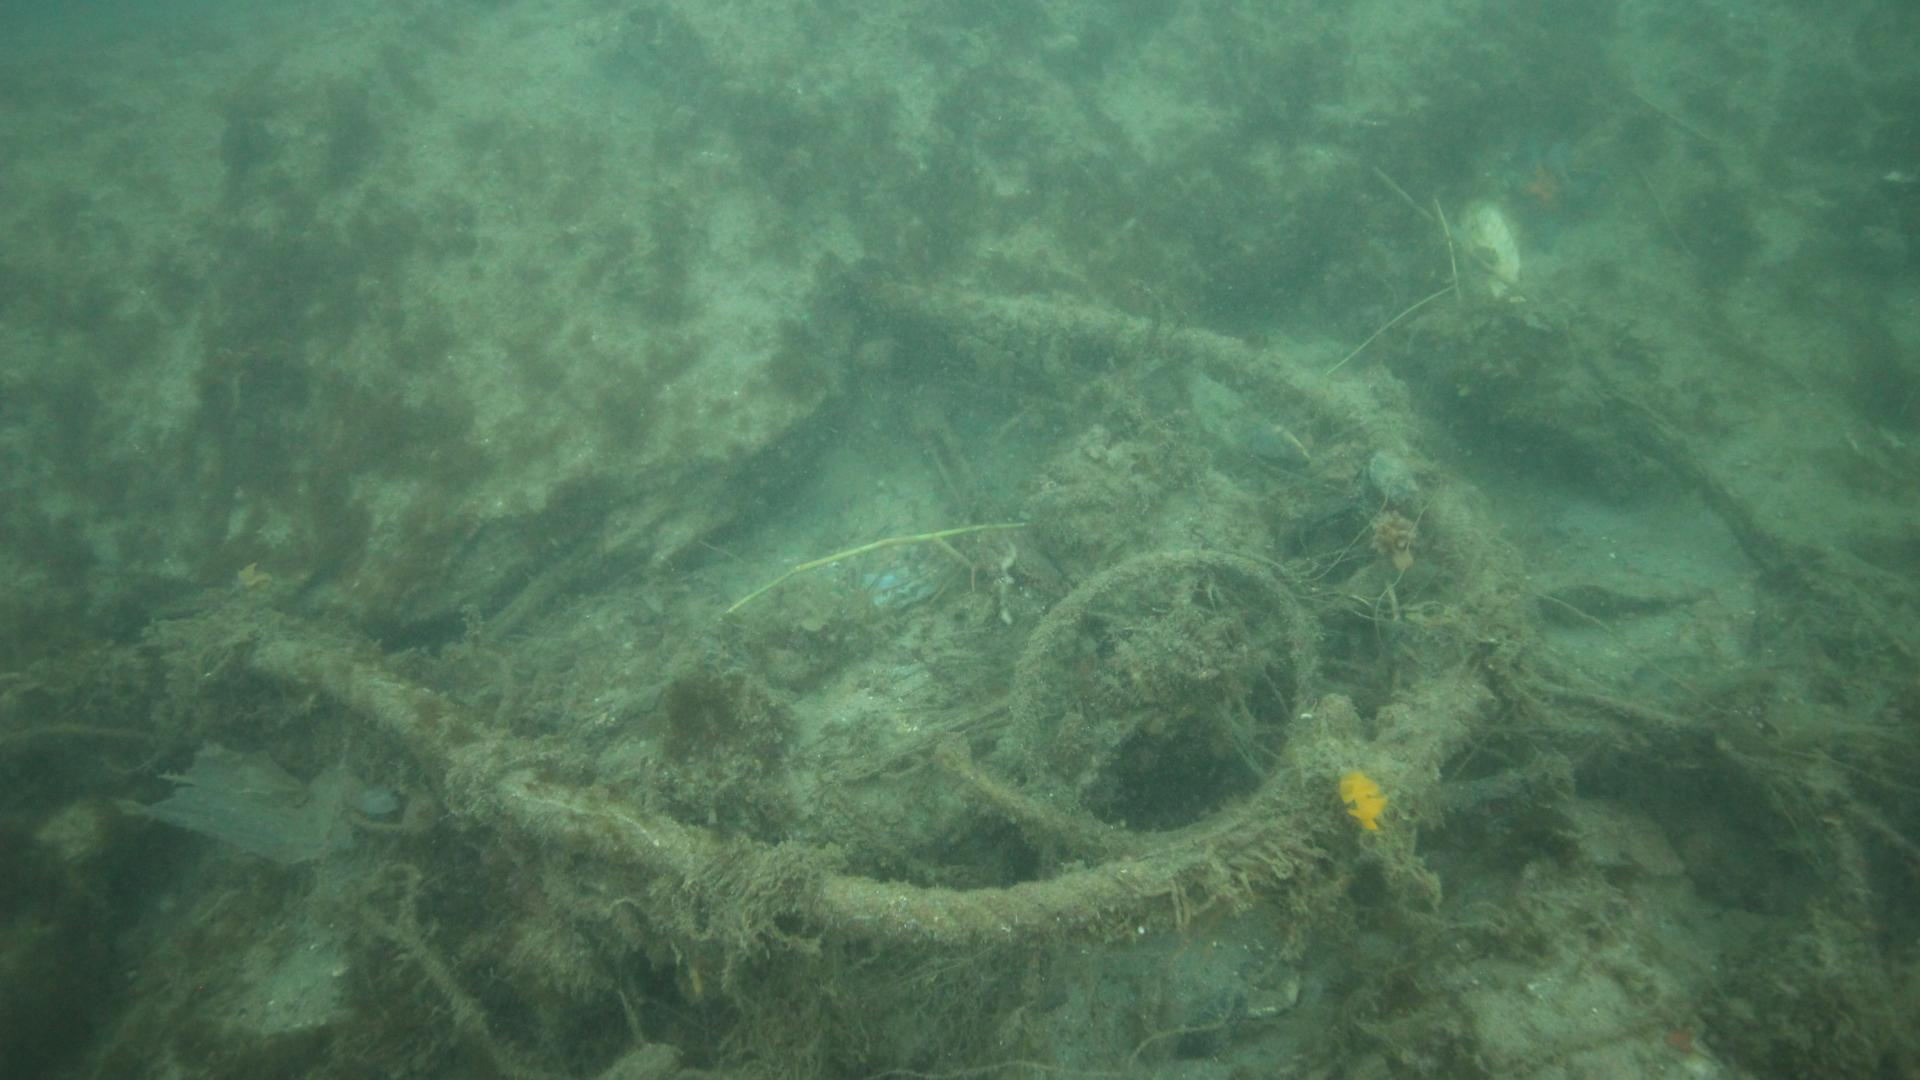bundle of ropes: (243, 280, 1527, 953)
